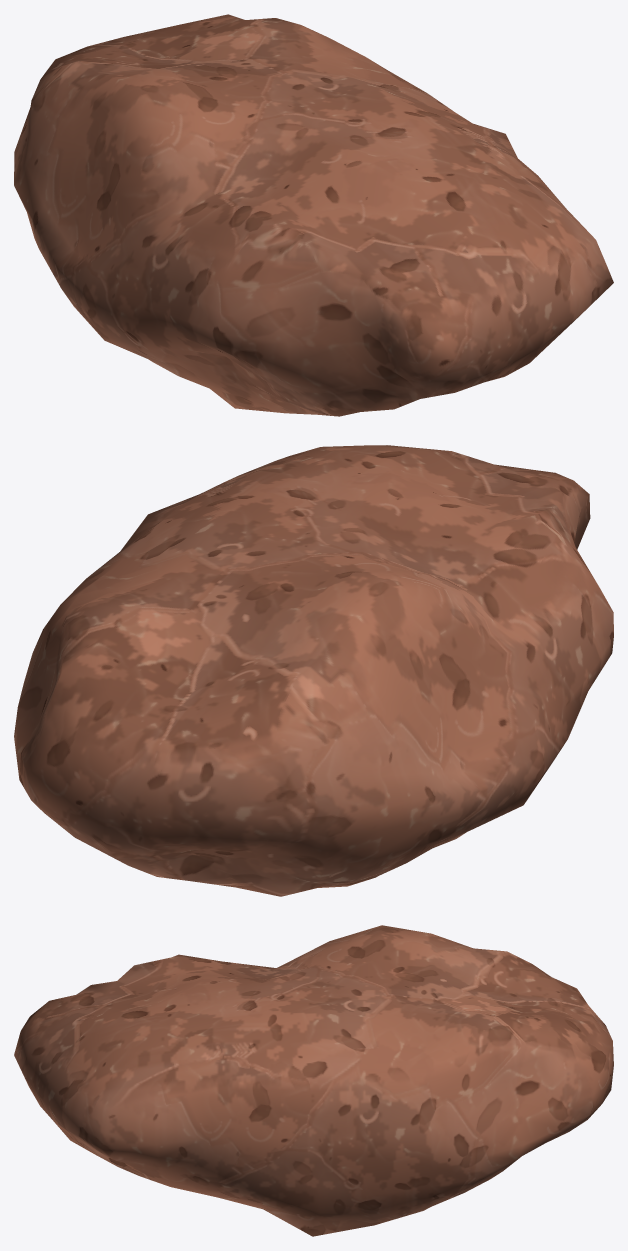
File: astroid.obj
The picture shows the model from 3 angles, top to bottom: view 1: azimuth 30°, elevation 25°; view 2: azimuth 150°, elevation 25°; view 3: azimuth 270°, elevation 25°; orthographic projection. The views are drawn at different scales.
Visible parts, largest first — view 1: Cube; view 2: Cube; view 3: Cube.
Part boxes in pixels (x1,y1,x2,y2): Cube: [14, 14, 613, 416]; Cube: [14, 445, 613, 896]; Cube: [14, 925, 613, 1236].
Bounding box in the file's own units: 1.15 × 0.781 × 1.89.
